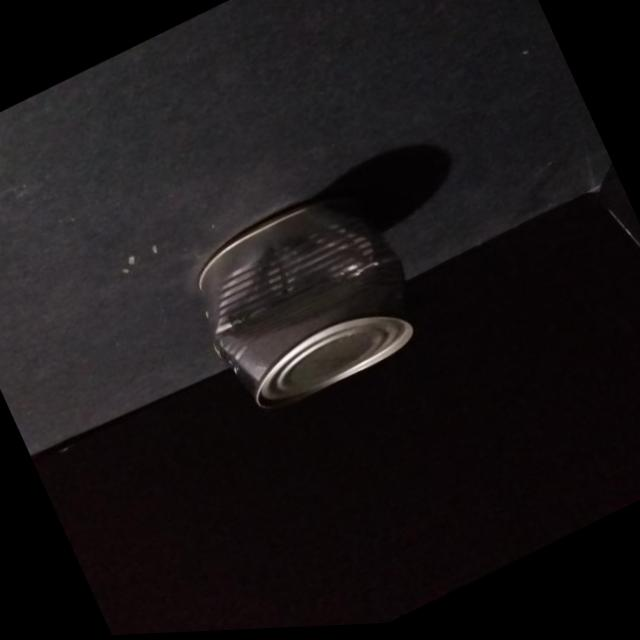metal: (175, 171, 437, 433)
